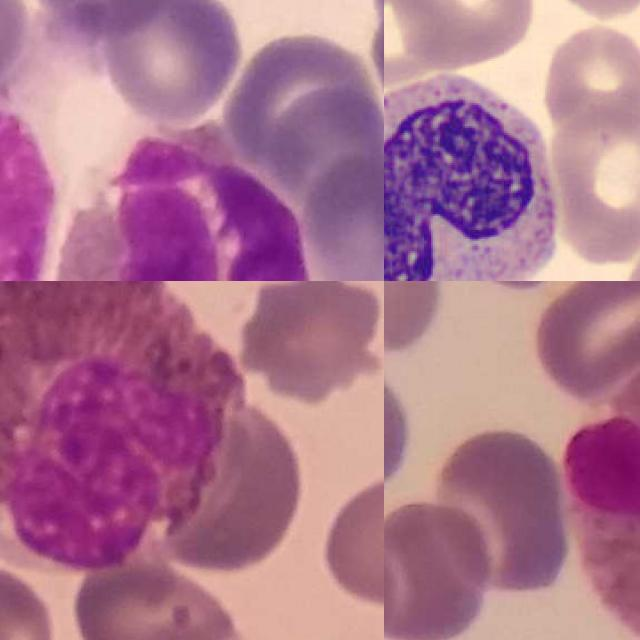Eosinophil: (53, 126, 317, 281), (568, 349, 640, 640)
Lymphocyte: (0, 281, 249, 574), (384, 57, 573, 281), (0, 88, 57, 281)
RBC: (546, 103, 640, 263), (537, 21, 640, 138), (388, 0, 541, 71)
